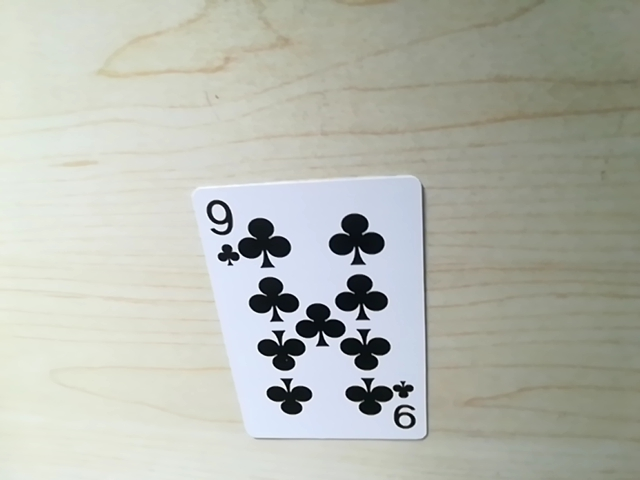mh 9: (202, 195, 239, 262), (371, 384, 420, 429)
